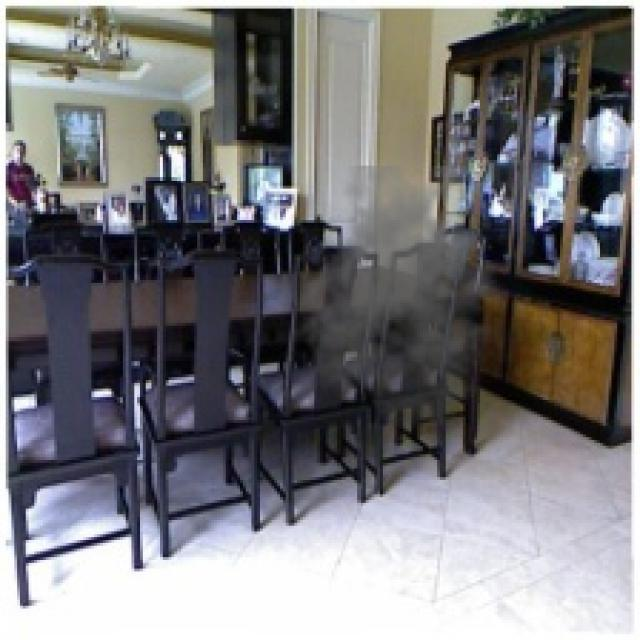Smoke: (288, 166, 523, 432)
